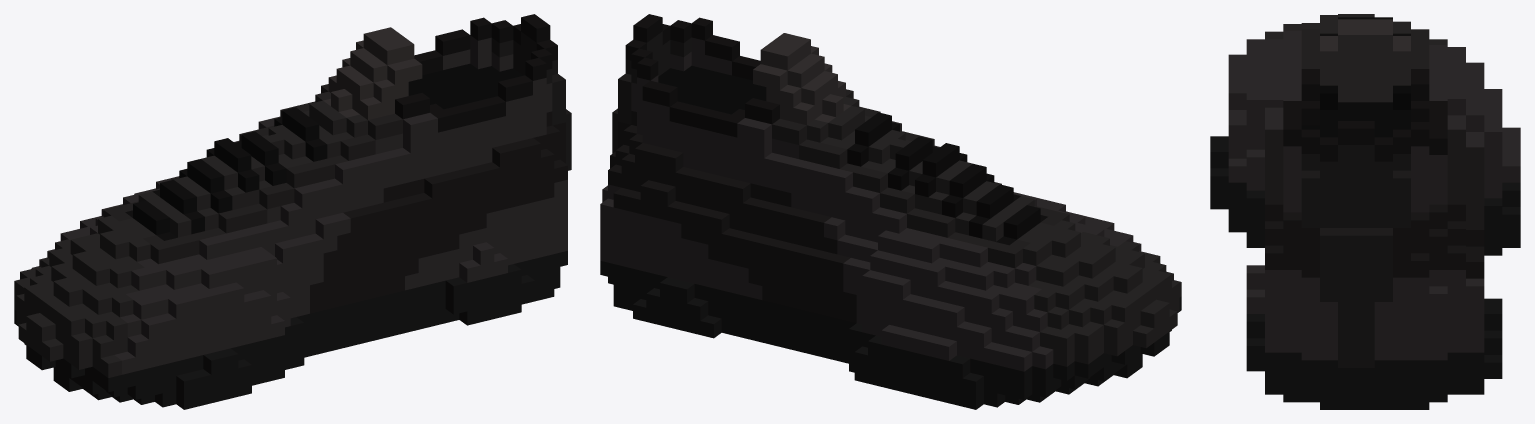
File: Black2Basics.fbx
3 renders of one model, left to right at view 1: azimuth 30°, elevation 25°; view 2: azimuth 150°, elevation 25°; view 3: azimuth 270°, elevation 25°, orthographic. The views are drawn at different scales.
Visible parts, largest first — view 1: Untitled; view 2: Untitled; view 3: Untitled.
Part boxes in pixels (bbox=[...]): Untitled: bbox=[14, 14, 571, 409]; Untitled: bbox=[600, 14, 1181, 409]; Untitled: bbox=[1210, 14, 1520, 409].
Bounding box in the file's own units: 390 × 180 × 170.
